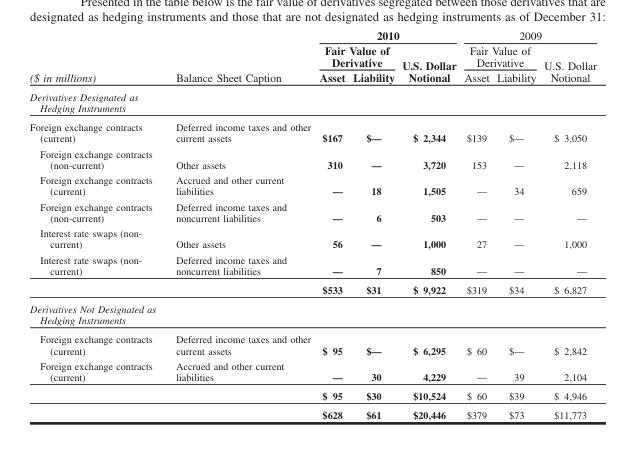table: (29, 28, 595, 420)
table column: (163, 28, 314, 420), (29, 28, 163, 420), (397, 28, 459, 420), (539, 28, 595, 420), (348, 28, 397, 420), (492, 28, 539, 420), (314, 28, 348, 420), (459, 28, 492, 420)
table column header: (29, 28, 595, 87)
table projected row header: (29, 87, 595, 117), (29, 299, 595, 329)
table row: (29, 87, 595, 117), (29, 299, 595, 329), (29, 117, 595, 145), (29, 251, 595, 279), (29, 329, 595, 357), (29, 357, 595, 385), (29, 42, 595, 69), (29, 145, 595, 172), (29, 198, 595, 225), (29, 172, 595, 198), (29, 225, 595, 251), (29, 279, 595, 299), (29, 385, 595, 404), (29, 69, 595, 87), (29, 404, 595, 420), (29, 28, 595, 42)
table spanning cell: (163, 28, 314, 87), (29, 357, 163, 420), (29, 28, 163, 87), (29, 251, 163, 299), (397, 42, 459, 87), (539, 42, 595, 87), (314, 42, 397, 69), (459, 42, 539, 69), (314, 28, 459, 42), (459, 28, 595, 42)
